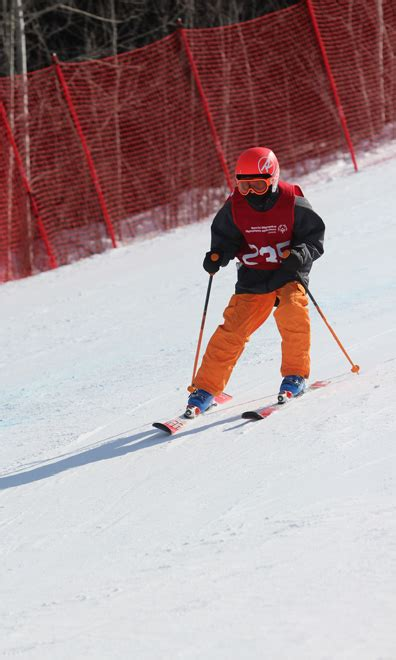skier: (134, 142, 368, 435)
